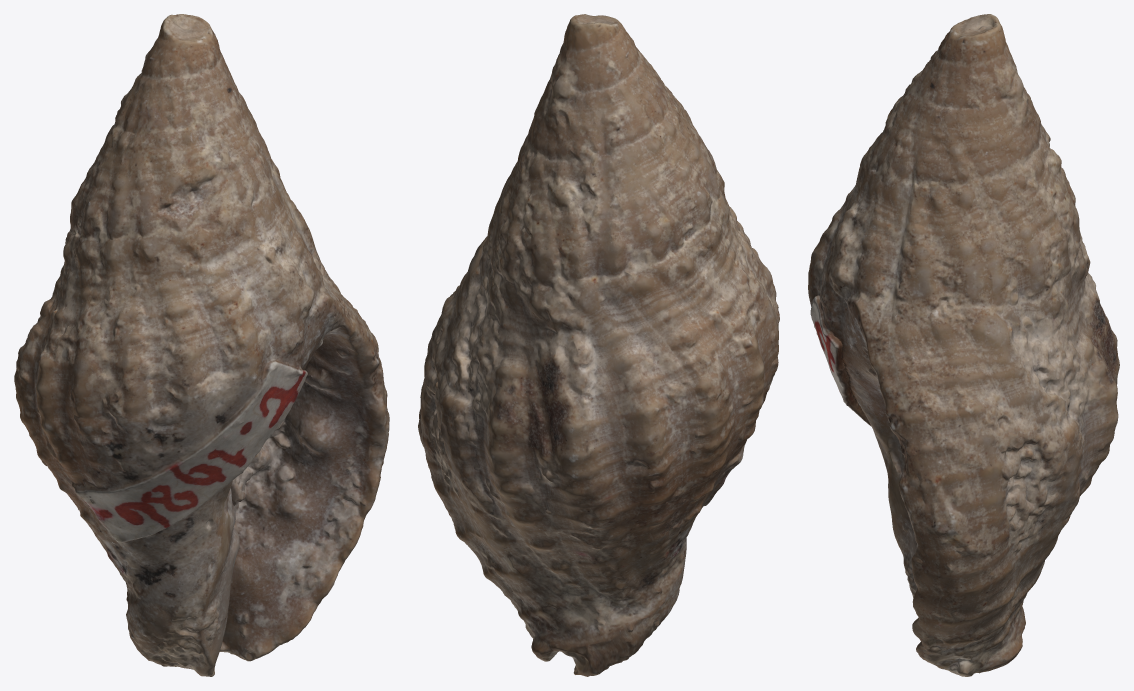
The model's file is EWS0012742.glb.
3 views of the same model, side by side, from view 1: azimuth 30°, elevation 25°; view 2: azimuth 150°, elevation 25°; view 3: azimuth 270°, elevation 25° (orthographic). The views are drawn at different scales.
Parts seen in each view (by area): view 1: input; view 2: input; view 3: input.
Boxes of the visible parts, x1,y1,x2,y2 form: input: [14, 14, 389, 676]; input: [418, 14, 779, 676]; input: [808, 14, 1119, 676].
Size of the model in its own units: 0.0139 by 0.0253 by 0.0112.
Materials: 1 (1 with a texture image).
